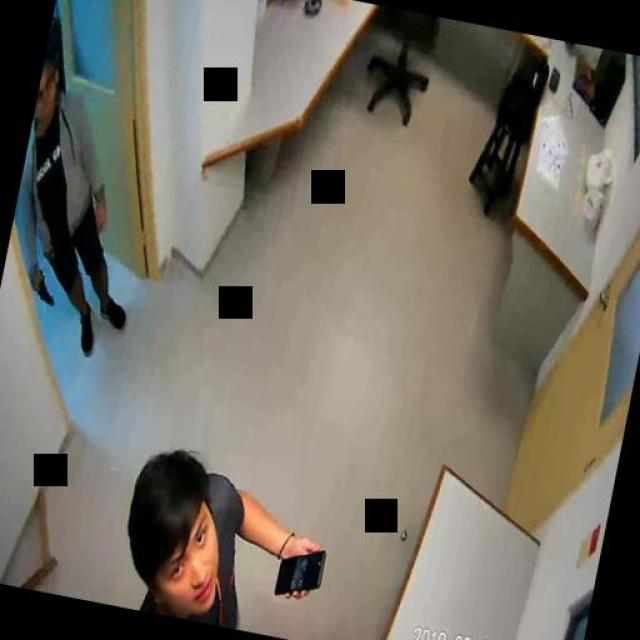gun: (30, 267, 60, 305)
